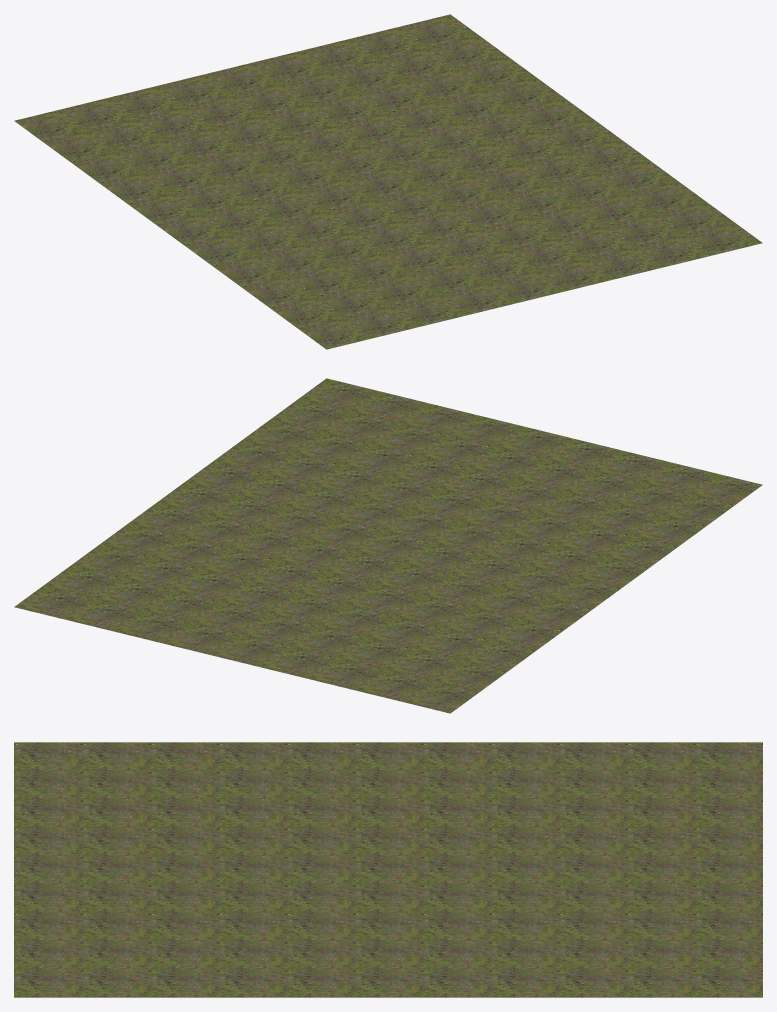
Rendered from Pasto.fbx.
3 views of the same model, one above another, from view 1: azimuth 30°, elevation 25°; view 2: azimuth 150°, elevation 25°; view 3: azimuth 270°, elevation 25° (orthographic). The views are drawn at different scales.
Visible parts, largest first — view 1: TerrenoEdificio1; view 2: TerrenoEdificio1; view 3: TerrenoEdificio1.
Part boxes in pixels (left/top/right/bottom): TerrenoEdificio1: left=14, top=14, right=762, bottom=349; TerrenoEdificio1: left=14, top=378, right=762, bottom=713; TerrenoEdificio1: left=14, top=742, right=762, bottom=997.
Size of the model in its own units: 2218 by 0.000448 by 2751.
Materials: 1 (1 with a texture image).
